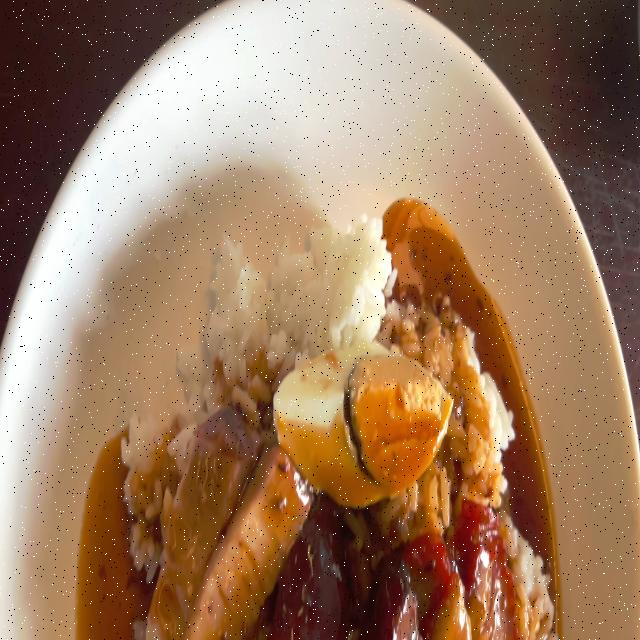boiled_egg: (279, 349, 448, 496)
chainese_sausage: (291, 523, 417, 640)
crispy_pork: (150, 407, 296, 640)
red_pork: (414, 497, 510, 640)
red_pork_and_crispy_pork: (127, 208, 552, 640)
rice: (212, 208, 384, 336)
